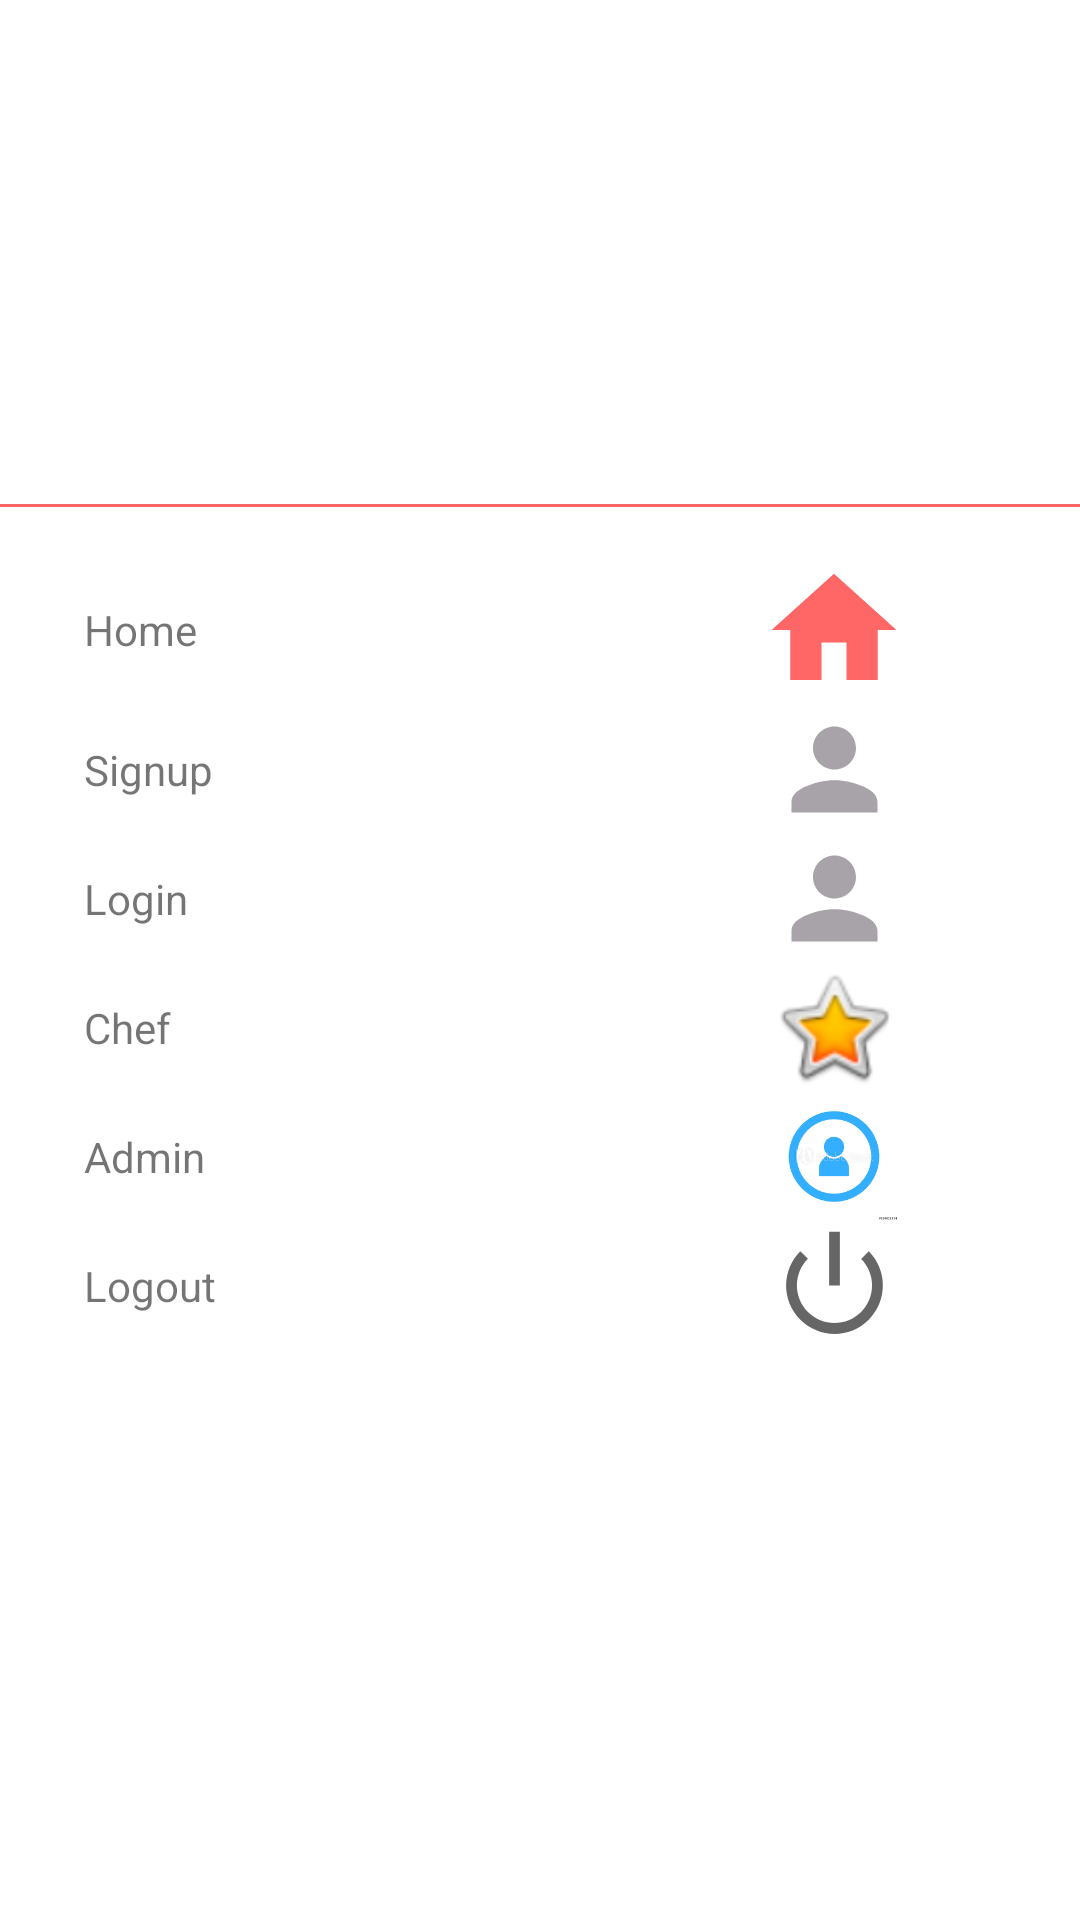

Named icons in this screenshot (1080px×1920px) and their bounding boxes, [x1=x1, y1=y1, x2=x2, y2=y2]:
lock power off: [x1=786, y1=1231, x2=883, y2=1334]
person: [x1=791, y1=726, x2=878, y2=813], [x1=791, y1=855, x2=878, y2=942]
star on: [x1=781, y1=976, x2=889, y2=1081]
